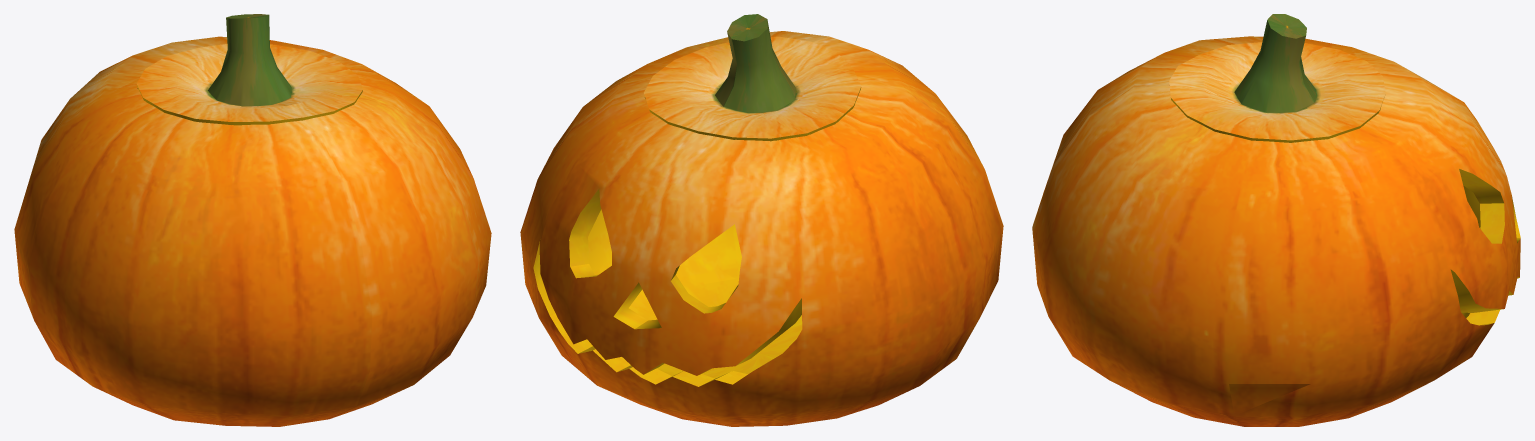
File: jackolantern.FBX
The picture shows the model from 3 angles, left to right: view 1: azimuth 30°, elevation 25°; view 2: azimuth 150°, elevation 25°; view 3: azimuth 270°, elevation 25°; orthographic projection.
Parts seen in each view (by area): view 1: 01 - Default; view 2: 01 - Default; view 3: 01 - Default.
Boxes of the visible parts, <box> form: 01 - Default: <box>14,14,491,426</box>; 01 - Default: <box>520,14,1003,426</box>; 01 - Default: <box>1032,14,1520,426</box>.
Bounding box in the file's own units: 17.16 × 14.54 × 18.04.
Materials: 1 (1 with a texture image).
